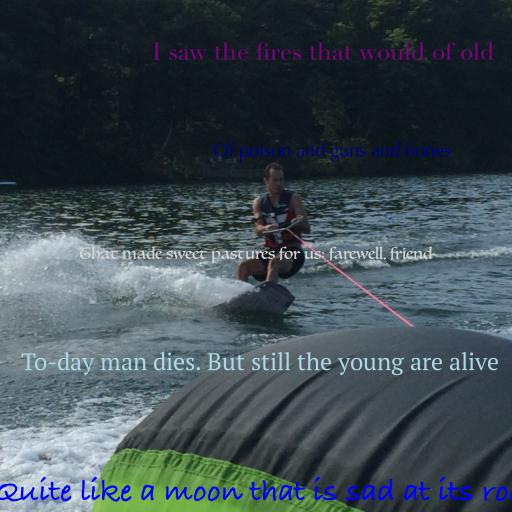Bradley Hand: (0, 476, 512, 502)
Didot: (152, 42, 494, 61)
Luminari: (78, 246, 432, 264)
Optima: (213, 142, 451, 162)
PT Serif: (21, 352, 499, 376)
